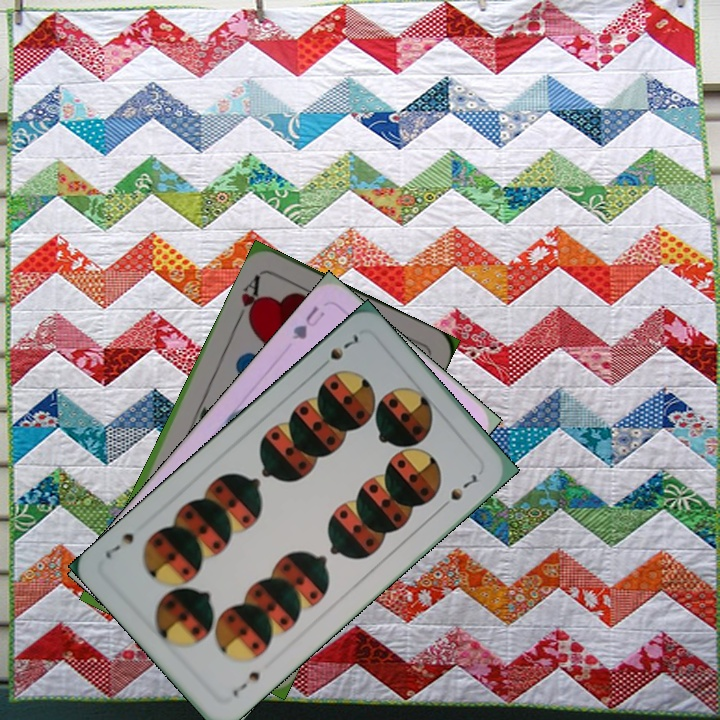GU: (287, 301, 328, 345)
HA: (232, 270, 265, 326)
S7: (314, 329, 365, 372), (228, 667, 264, 700)
